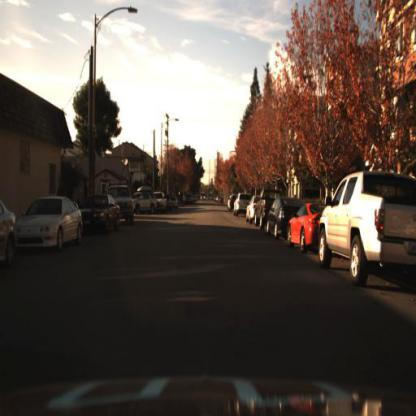car: (319, 171, 416, 288), (17, 196, 85, 256), (286, 200, 326, 255), (287, 202, 327, 252), (82, 193, 122, 236), (106, 179, 137, 228), (253, 188, 280, 236), (266, 196, 290, 241), (133, 186, 159, 217), (132, 186, 157, 217), (232, 192, 254, 221), (244, 194, 259, 227), (153, 188, 170, 217)
